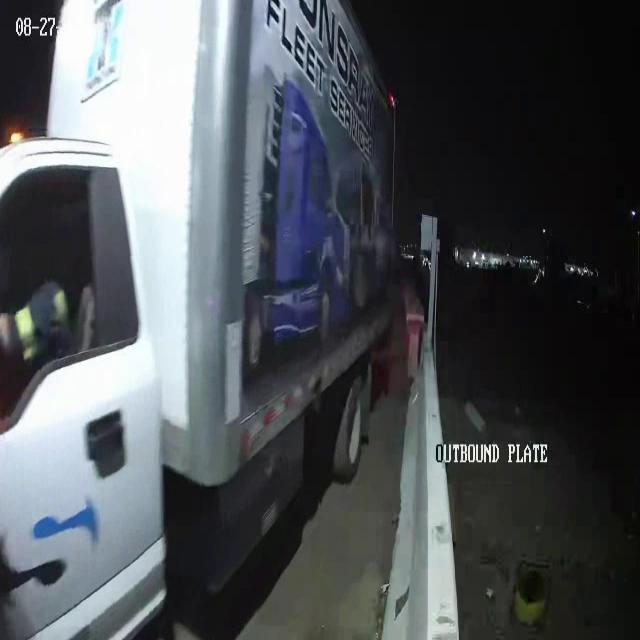TRUCK_IN: (1, 1, 404, 636)
